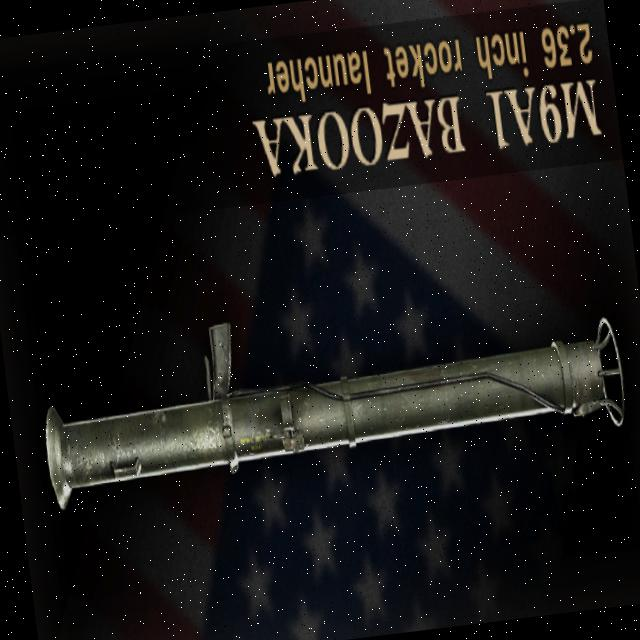Bazooka: (33, 266, 632, 516)
